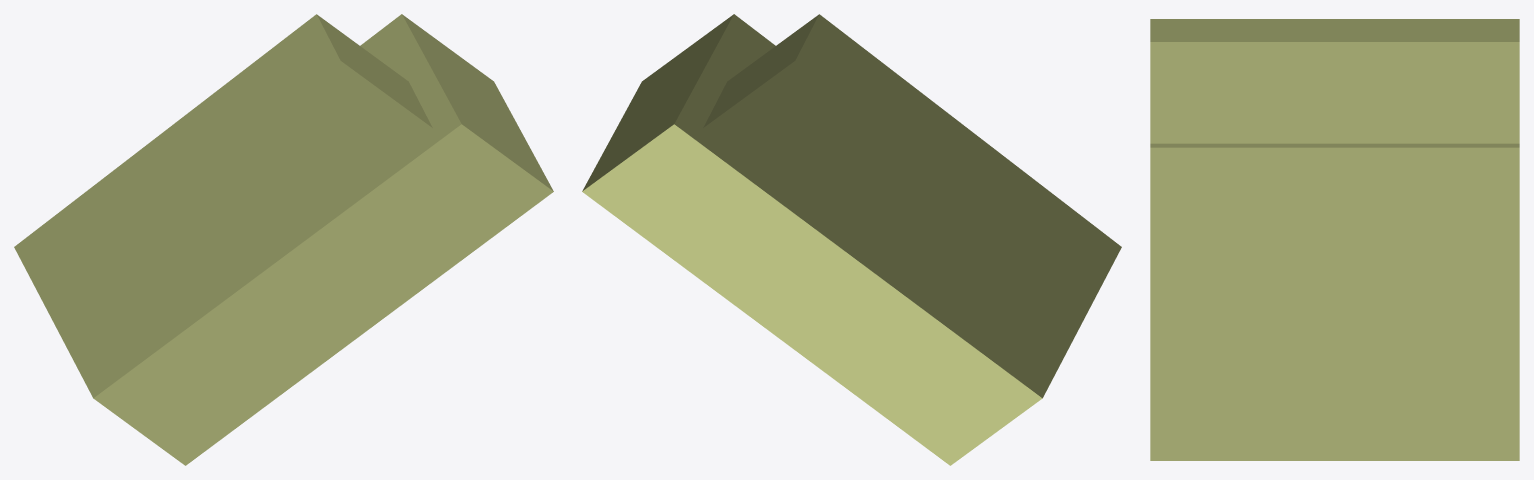
3 renders of one model, left to right at view 1: azimuth 30°, elevation 25°; view 2: azimuth 150°, elevation 25°; view 3: azimuth 270°, elevation 25°, orthographic. The views are drawn at different scales.
Visible parts, largest first — view 1: 0_1_0_2_1_3_2_2_2; view 2: 0_1_0_2_1_3_2_2_2; view 3: 0_1_0_2_1_3_2_2_2.
Boxes of the visible parts, x1,y1,x2,y2 form: 0_1_0_2_1_3_2_2_2: [14, 14, 553, 465]; 0_1_0_2_1_3_2_2_2: [582, 14, 1121, 465]; 0_1_0_2_1_3_2_2_2: [1150, 19, 1519, 460].
Size of the model in its own units: 16.81 by 11.83 by 6.
